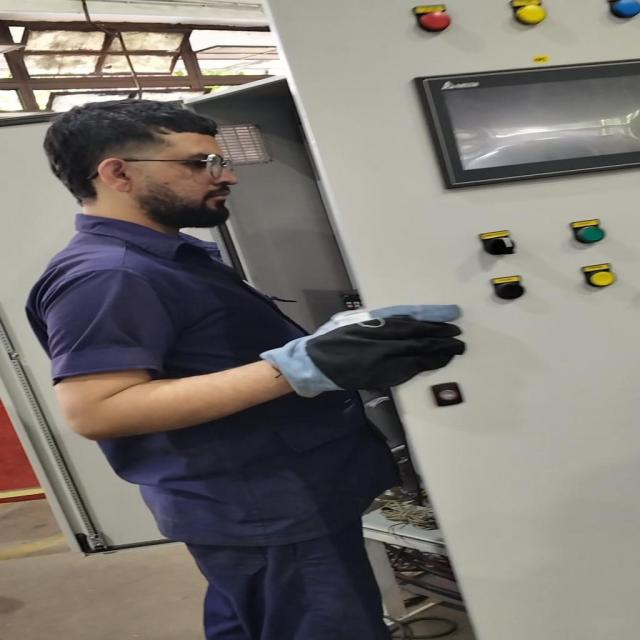Gloves-Detection: (259, 302, 474, 382)
